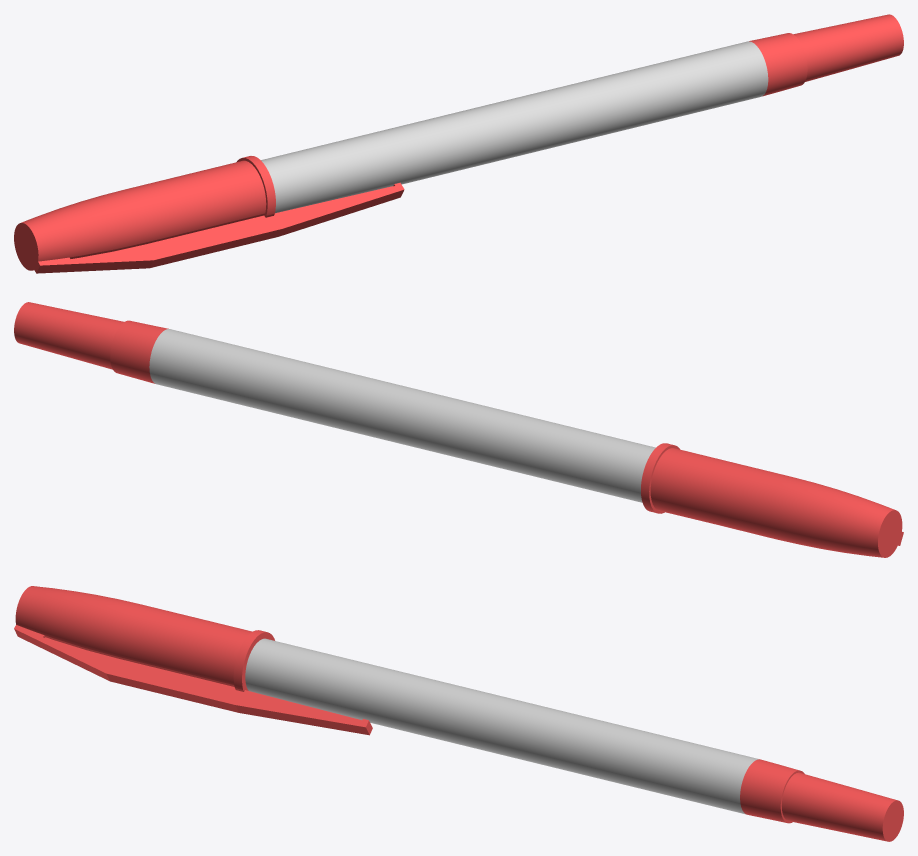
File: 192_ボールペンキャップ式.glb
3 renders of one model, top to bottom at view 1: azimuth 30°, elevation 25°; view 2: azimuth 150°, elevation 25°; view 3: azimuth 330°, elevation 25°, orthographic.
Parts seen in each view (by area): view 1: body, キャップ; view 2: body, キャップ; view 3: body, キャップ.
Boxes of the visible parts, left/top/right/bottom form: body: left=261, top=14, right=903, bottom=213; キャップ: left=14, top=156, right=404, bottom=273; body: left=14, top=302, right=655, bottom=502; キャップ: left=641, top=443, right=903, bottom=557; body: left=245, top=638, right=903, bottom=841; キャップ: left=14, top=586, right=372, bottom=735.
Bounding box in the file's own units: 0.1407 × 0.0099 × 0.0118.
